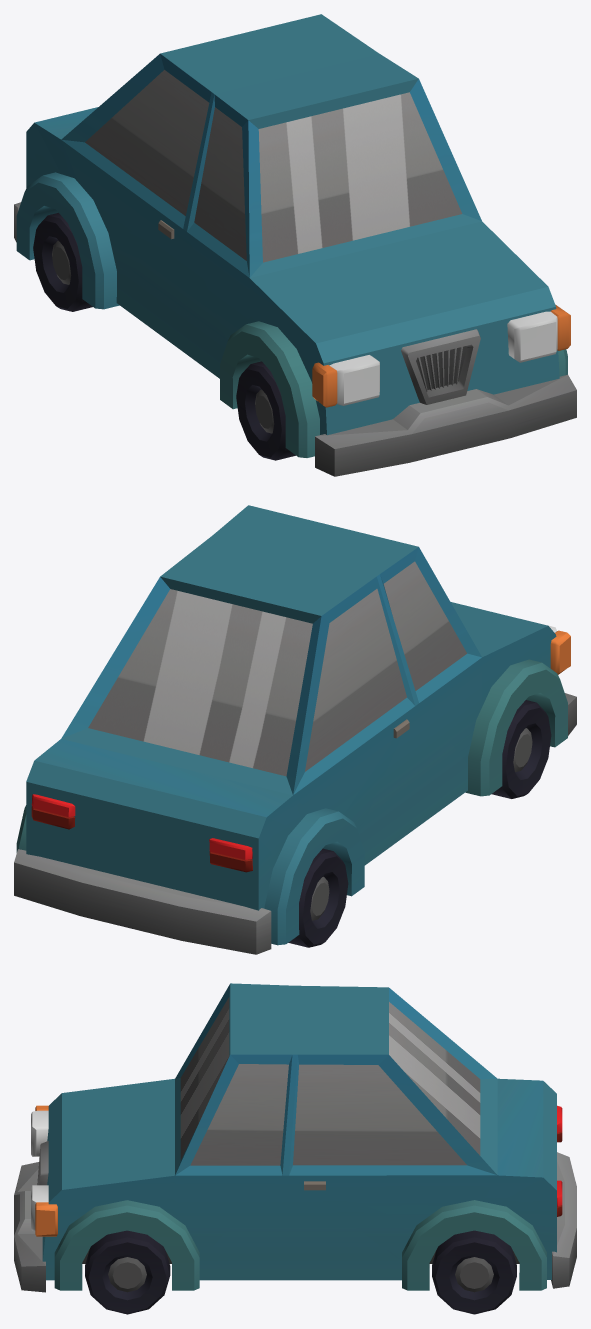
File: Car_4_12.glb
3 renders of one model, top to bottom at view 1: azimuth 30°, elevation 25°; view 2: azimuth 150°, elevation 25°; view 3: azimuth 270°, elevation 25°, orthographic. The views are drawn at different scales.
Visible parts, largest first — view 1: Car_4_12, BWhel_FR, BWhel_BR; view 2: Car_4_12, BWhel_BR, BWhel_FR; view 3: Car_4_12, BWhel_FL, BWhel_BL.
Boxes of the visible parts, left/top/right/bottom form: Car_4_12: left=14, top=14, right=576, bottom=476; BWhel_FR: left=236, top=361, right=295, bottom=460; BWhel_BR: left=33, top=212, right=92, bottom=311; Car_4_12: left=14, top=505, right=576, bottom=954; BWhel_BR: left=288, top=848, right=348, bottom=947; BWhel_FR: left=491, top=700, right=551, bottom=798; Car_4_12: left=14, top=983, right=576, bottom=1292; BWhel_FL: left=85, top=1230, right=170, bottom=1314; BWhel_BL: left=432, top=1230, right=516, bottom=1314.
Size of the model in its own units: 1.09 by 1.09 by 2.3.
Materials: 6 (6 with a texture image).
